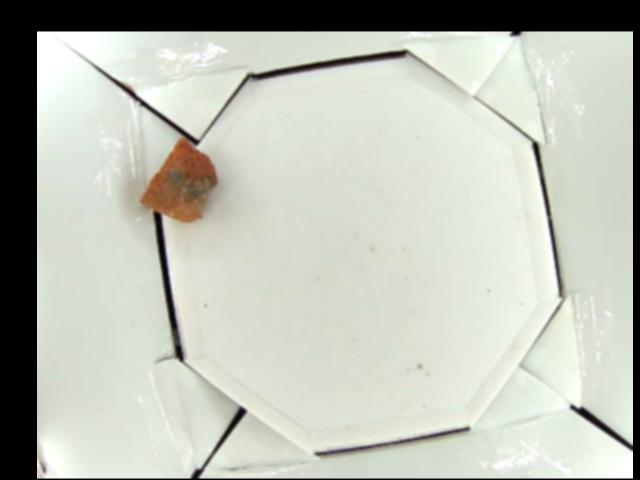Brisk: (139, 136, 220, 222)
